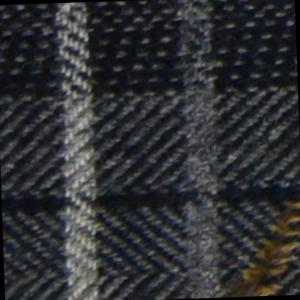Damage: (233, 250, 287, 299)
Oil Stain: (226, 193, 300, 298)
